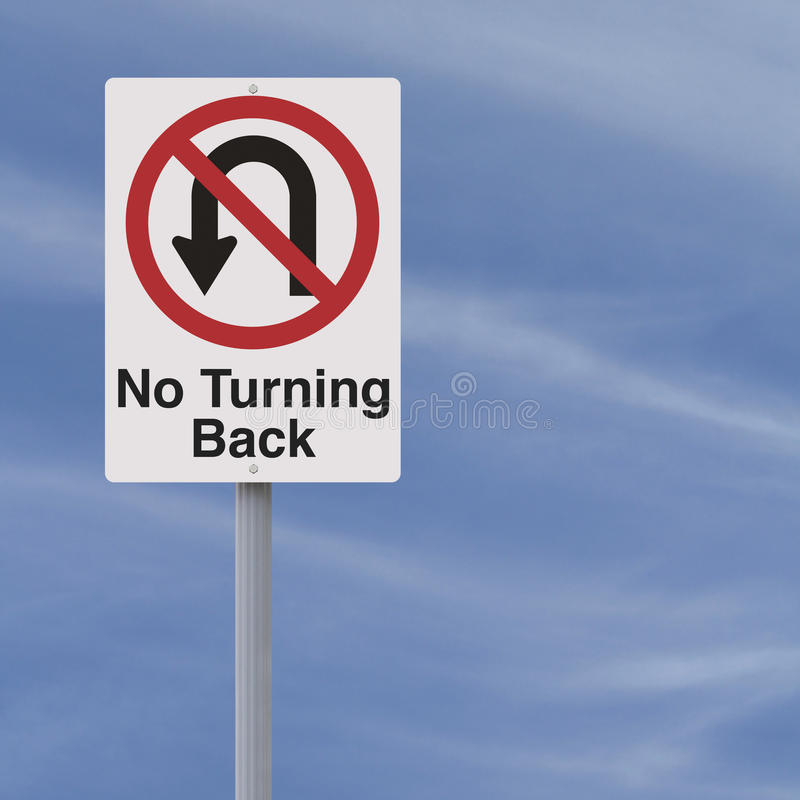No_u_turn: (127, 96, 380, 349)
